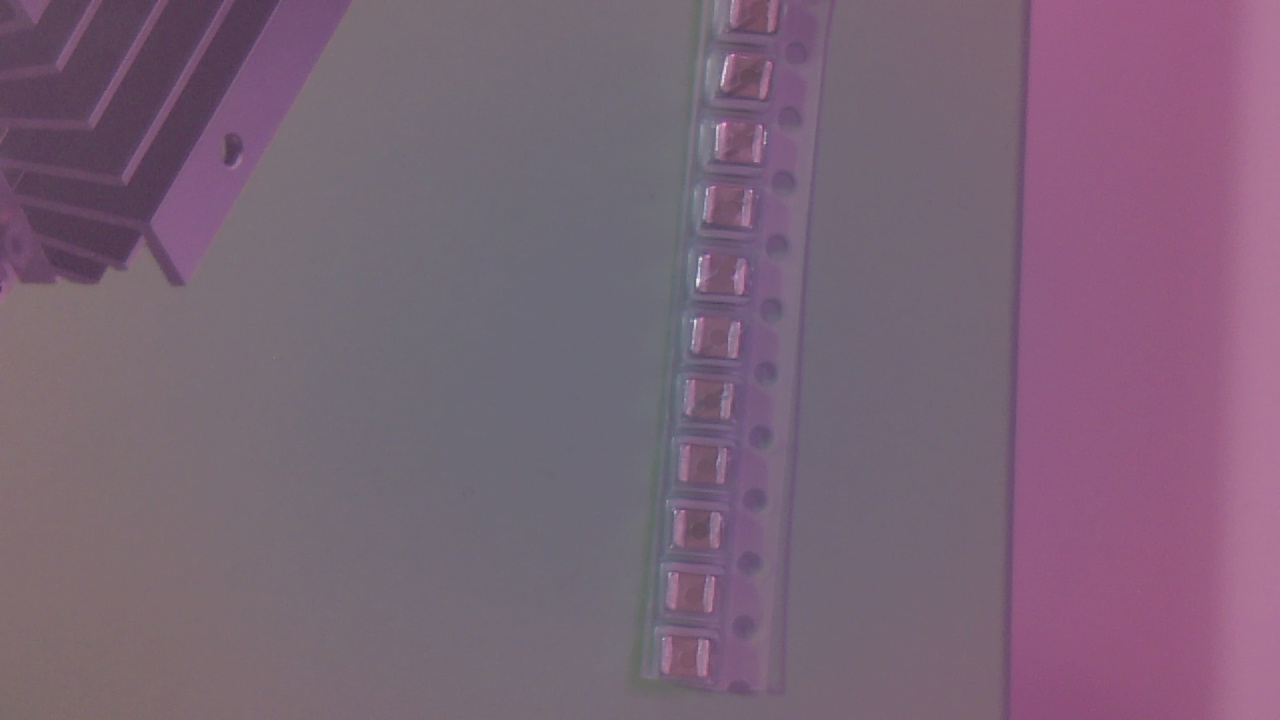Condensator: (671, 571, 725, 624), (674, 508, 731, 557), (716, 123, 772, 172), (686, 381, 745, 426), (699, 253, 754, 301), (708, 187, 764, 234), (726, 55, 777, 105), (697, 315, 751, 360), (683, 446, 736, 488), (666, 640, 718, 681), (730, 5, 788, 37)
